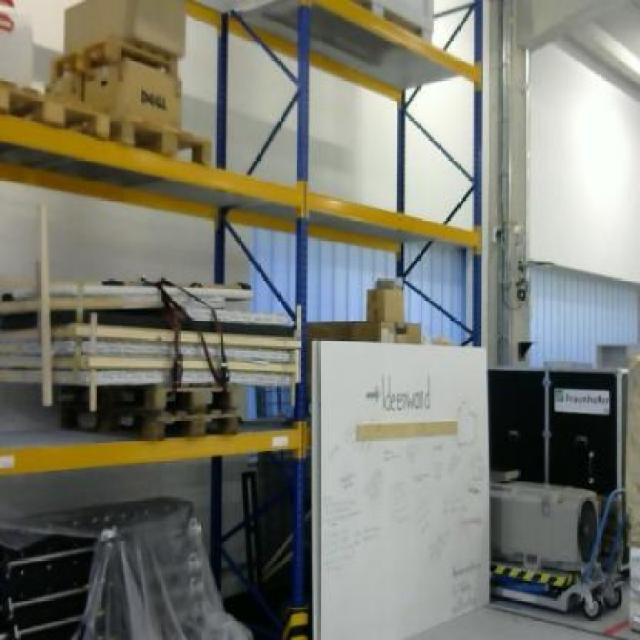box: (82, 56, 182, 124), (61, 0, 184, 55), (363, 288, 406, 326)
